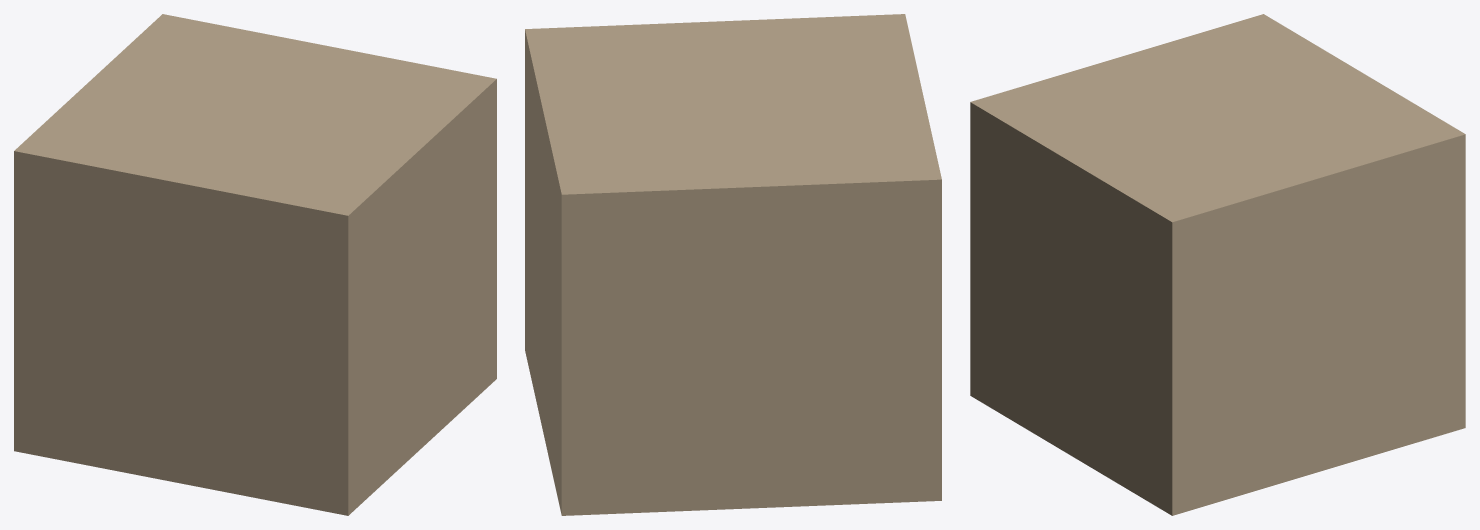
File: bld_106338963.dae
The picture shows the model from 3 angles, left to right: view 1: azimuth 30°, elevation 25°; view 2: azimuth 150°, elevation 25°; view 3: azimuth 270°, elevation 25°; orthographic projection. The views are drawn at different scales.
Visible parts, largest first — view 1: bld_106338963; view 2: bld_106338963; view 3: bld_106338963.
Boxes of the visible parts, x1=… form: bld_106338963: x1=14, y1=14, x2=496, y2=515; bld_106338963: x1=525, y1=14, x2=941, y2=515; bld_106338963: x1=970, y1=14, x2=1465, y2=515.
Size of the model in its own units: 12.17 by 12.24 by 8.
